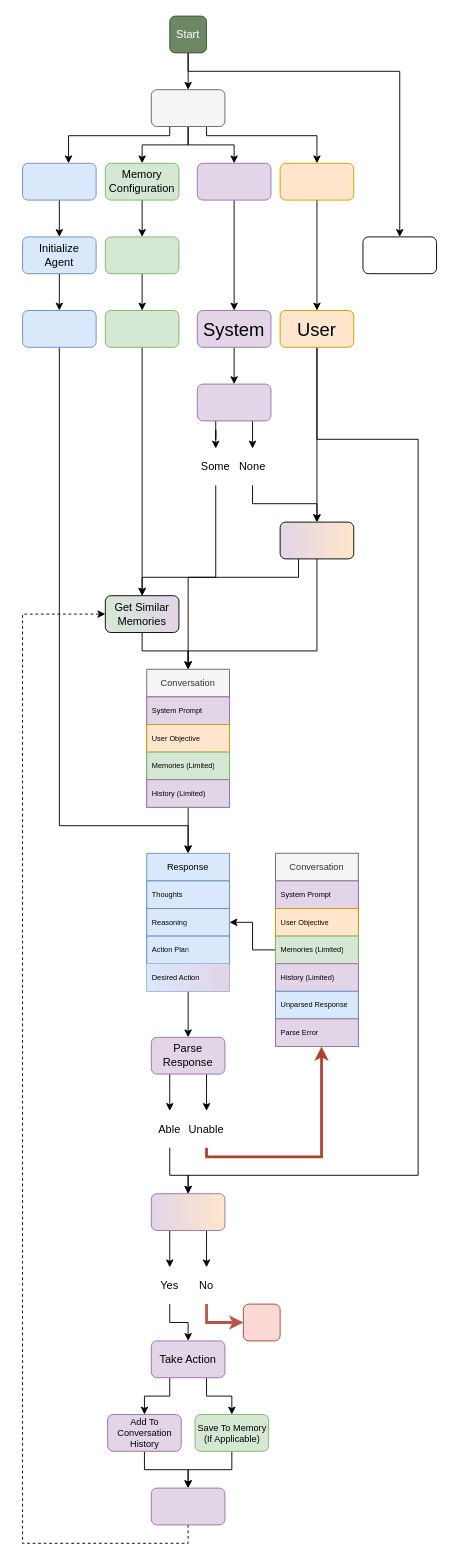
This 453x1567 diagram has some shape labels left out. The shapes that lost their labels are listed below. From the top down, each one's centre as x and y in pixels, then its label:
At [187,107]: "Load Configuration".
At [59,181]: "Agent Configuration".
At [233,181]: "System Configuration".
At [316,181]: "User Configuration".
At [141,255]: "Initialize Memory".
At [399,255]: "Initialize UI".
At [59,328]: "Agent".
At [141,328]: "Memory".
At [233,402]: "Check For Conversation History".
At [316,540]: "Ask User For Objective".
At [187,1211]: "Ask User For Permission".
At [261,1322]: "End".
At [187,1506]: "Start Loop Again".
